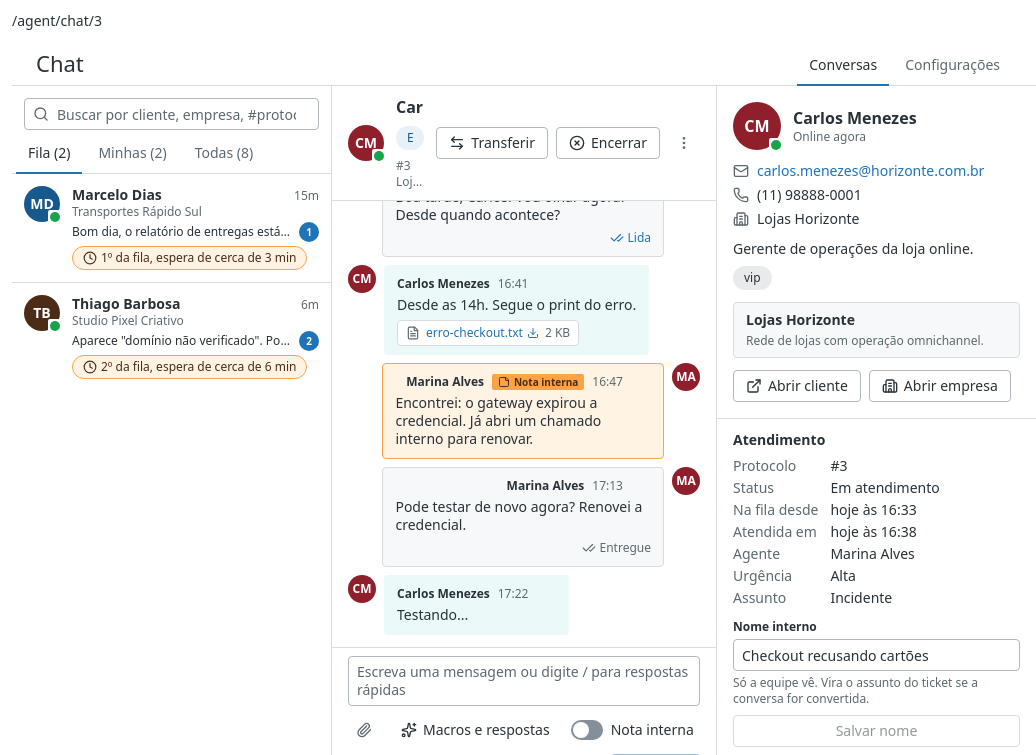
it: conversa › Ctrl+Enter envia, limpa o compositor e a mensagem aparece uma única vez
The width and height of the screenshot is (1036, 755).
(page scrolled)
Step 1. Type "Já renovei a credencial." into the text box named "Escrever mensagem ao cliente" → {"x": 524, "y": 681}, box [348, 656, 700, 706]
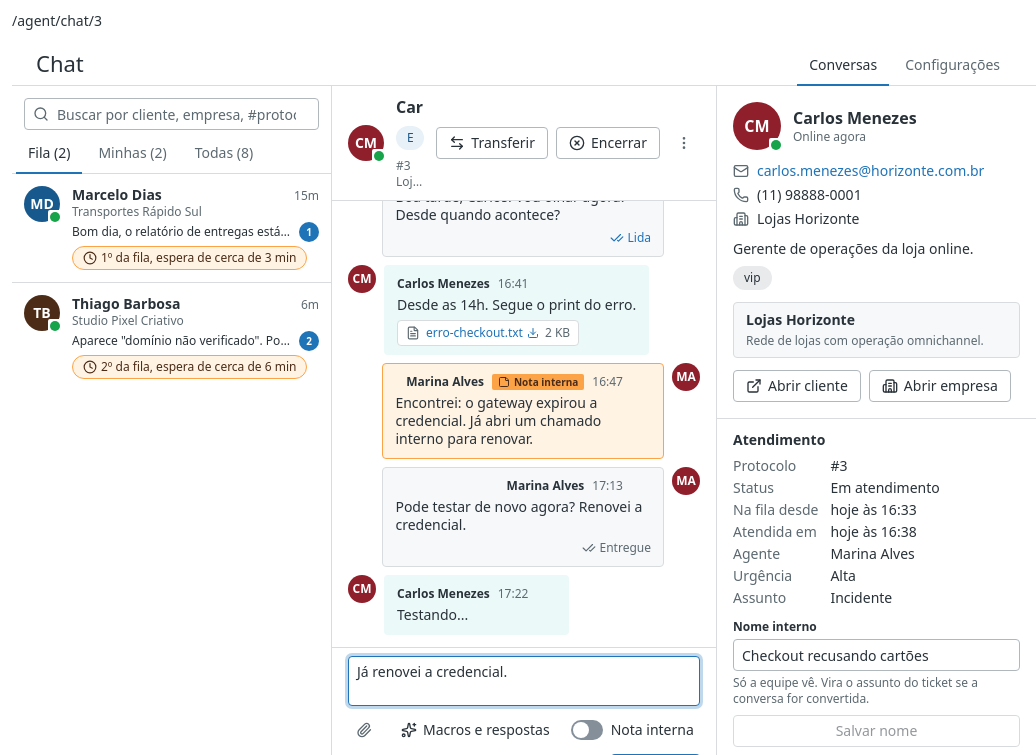
Step 2. Type keys "{Control>}{Enter}{/Control}"
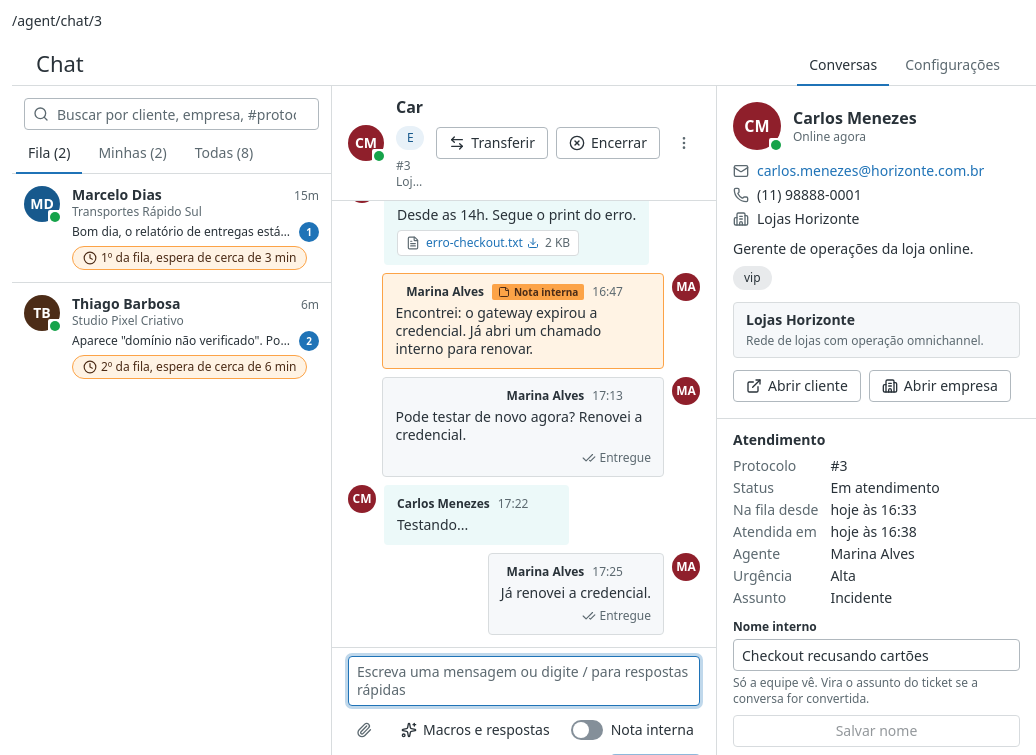
Expected: the text "Já renovei a credencial." is shown once, [501, 584, 651, 602]
Result: the text box named "Escrever mensagem ao cliente" is empty at [348, 656, 700, 706]
Result: the list item with test id "chat-message" shows "Já renovei a credencial." at [501, 583, 651, 602]
